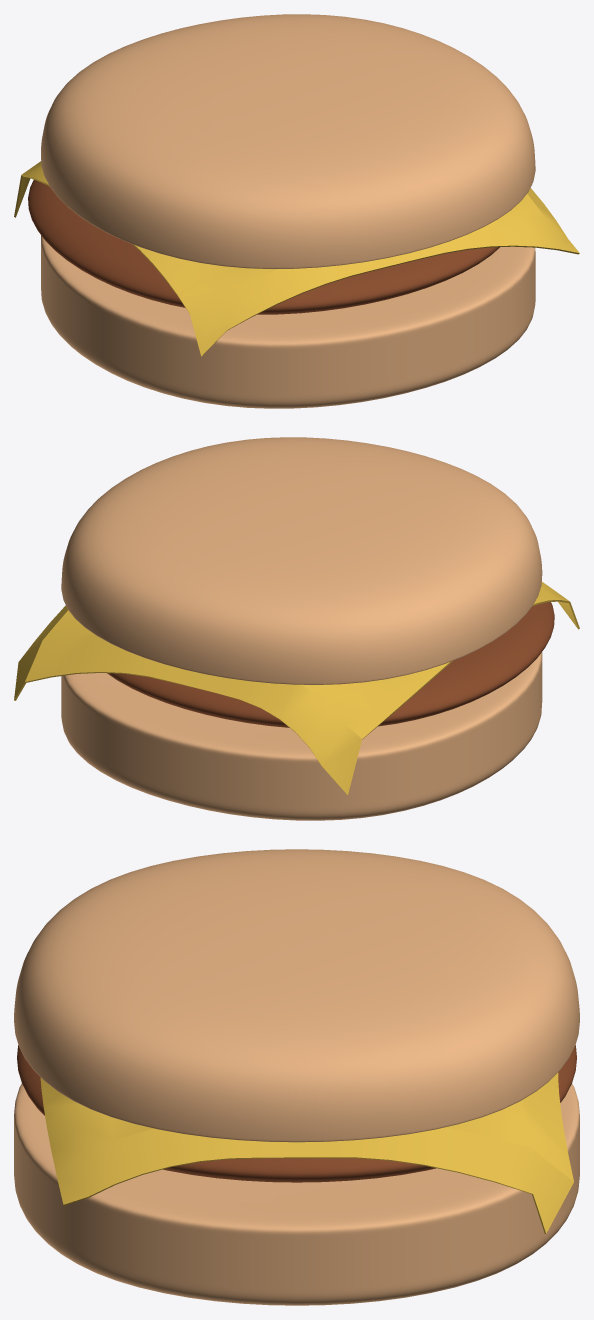
Rendered from hamburger.glb.
3 views of the same model, one above another, from view 1: azimuth 30°, elevation 25°; view 2: azimuth 150°, elevation 25°; view 3: azimuth 270°, elevation 25° (orthographic). The views are drawn at different scales.
Parts seen in each view (by area): view 1: Cube.001, Cube, Plane, meat; view 2: Cube.001, Cube, Plane, meat; view 3: Cube.001, Cube, Plane, meat.
Boxes of the visible parts, bbox=[...] form: Cube.001: bbox=[41, 14, 535, 268]; Cube: bbox=[41, 235, 535, 408]; Plane: bbox=[14, 161, 579, 356]; meat: bbox=[28, 180, 499, 314]; Cube.001: bbox=[61, 437, 542, 684]; Cube: bbox=[61, 652, 542, 820]; Plane: bbox=[14, 581, 579, 795]; meat: bbox=[107, 602, 554, 727]; Cube.001: bbox=[14, 849, 579, 1142]; Cube: bbox=[14, 1083, 579, 1305]; Plane: bbox=[40, 1072, 573, 1233]; meat: bbox=[17, 1045, 576, 1182].
Size of the model in its own units: 1.89 by 0.9619 by 1.83.
